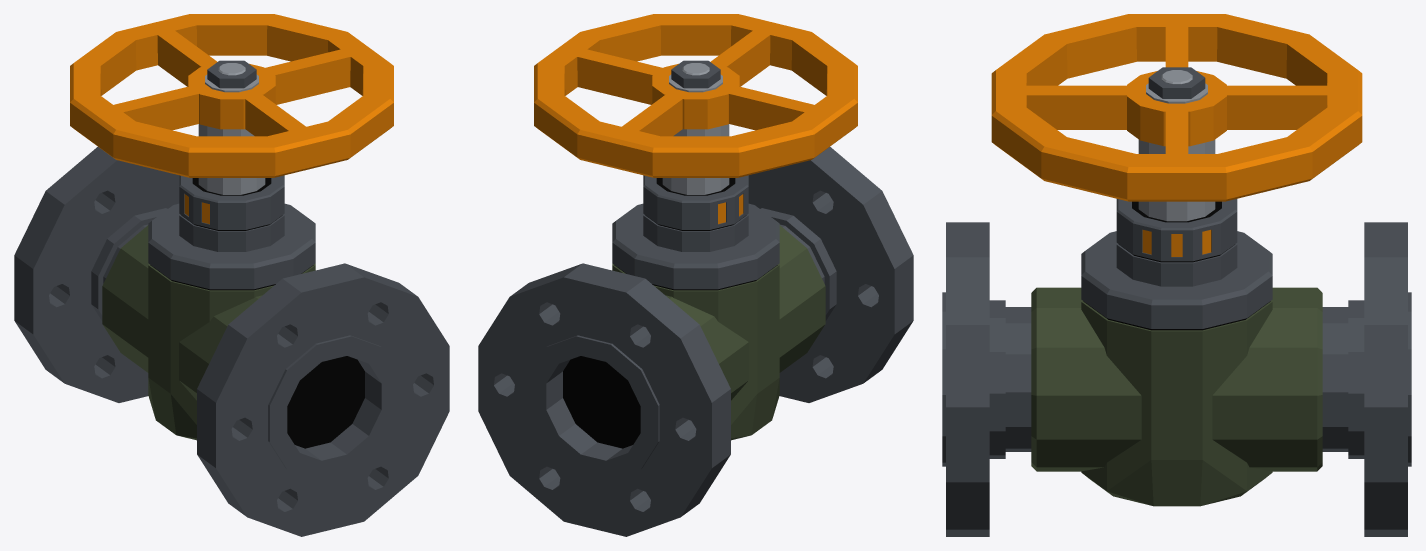
The model's file is SM_Industrial_Valve.fbx.
3 renders of one model, left to right at view 1: azimuth 30°, elevation 25°; view 2: azimuth 150°, elevation 25°; view 3: azimuth 270°, elevation 25°, orthographic. The views are drawn at different scales.
Parts seen in each view (by area): view 1: SM_Industrial_Valve; view 2: SM_Industrial_Valve; view 3: SM_Industrial_Valve.
Boxes of the visible parts, left/top/right/bottom form: SM_Industrial_Valve: left=14, top=14, right=449, bottom=536; SM_Industrial_Valve: left=478, top=14, right=913, bottom=536; SM_Industrial_Valve: left=942, top=14, right=1411, bottom=536.
Size of the model in its own units: 30.76 by 40.59 by 38.9.
